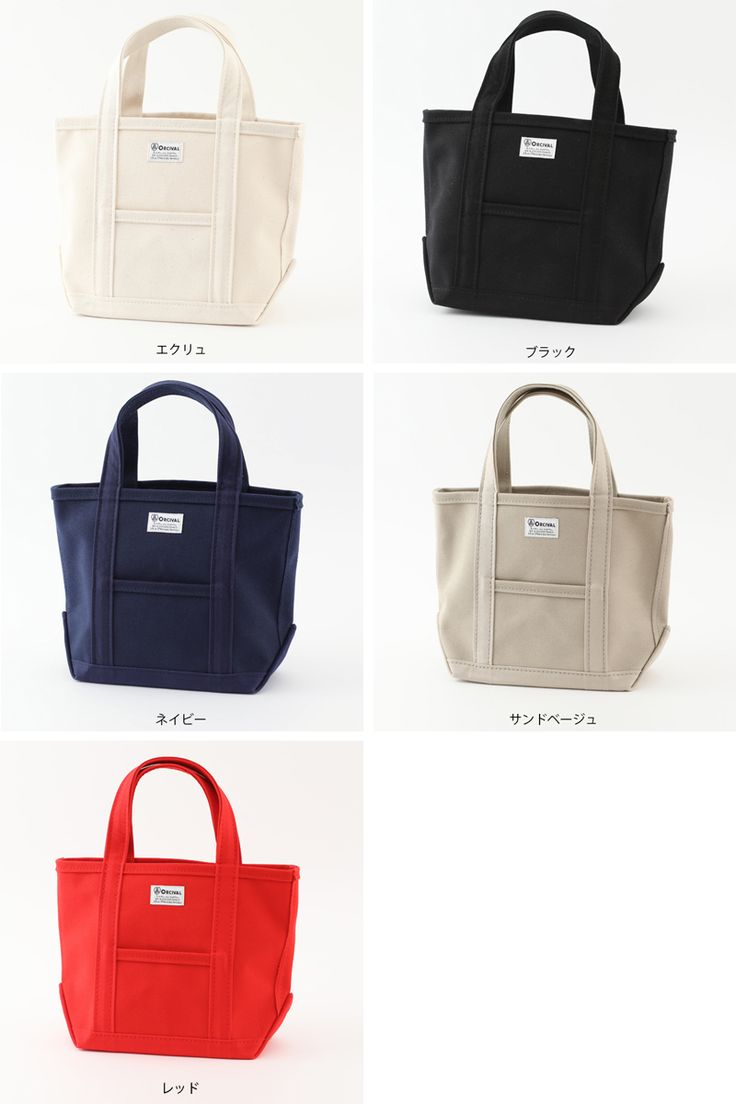nylon: (50, 10, 676, 1057)
